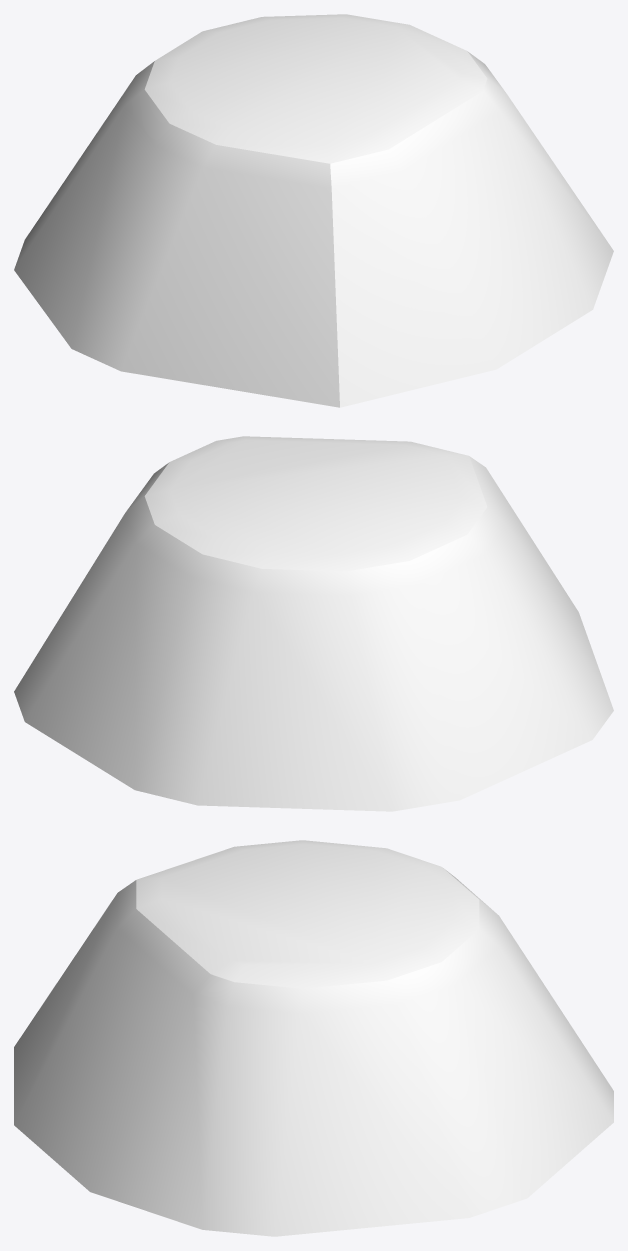
The model's file is RockSmall004.fbx.
3 renders of one model, top to bottom at view 1: azimuth 30°, elevation 25°; view 2: azimuth 150°, elevation 25°; view 3: azimuth 270°, elevation 25°, orthographic. The views are drawn at different scales.
Visible parts, largest first — view 1: RockSmall004; view 2: RockSmall004; view 3: RockSmall004.
Boxes of the visible parts, x1,y1,x2,y2 form: RockSmall004: (14,14,613,407); RockSmall004: (14,436,613,811); RockSmall004: (14,840,613,1236).
Size of the model in its own units: 316 by 113 by 309.
